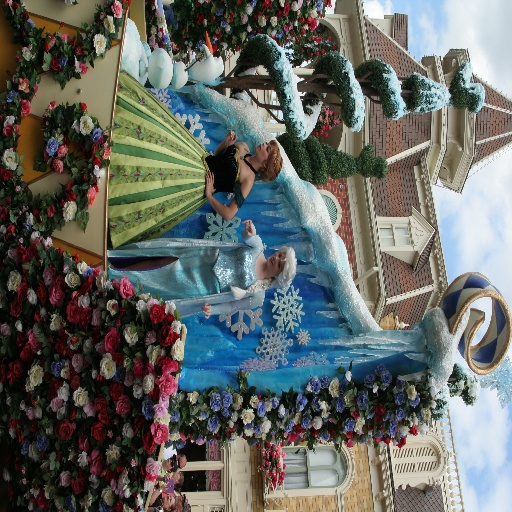hand: (205, 168, 216, 197), (241, 218, 256, 238), (224, 130, 237, 147), (201, 302, 212, 320)
